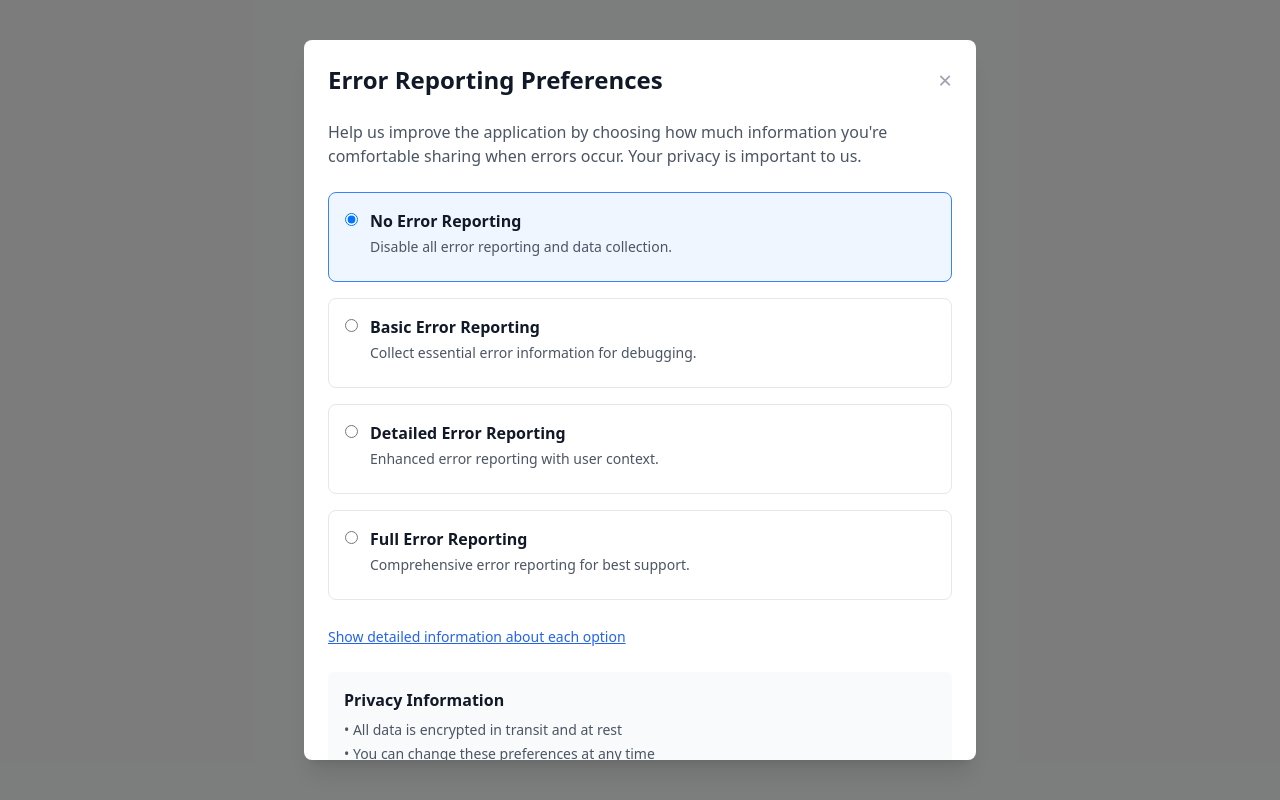
Test case: ErrorReportConsentModal › should show detailed information when "Show detailed information" is clicked
The width and height of the screenshot is (1280, 800).
Click the button "Show detailed information about each option" at coordinates (477, 637), box left=328, top=627, right=626, bottom=647
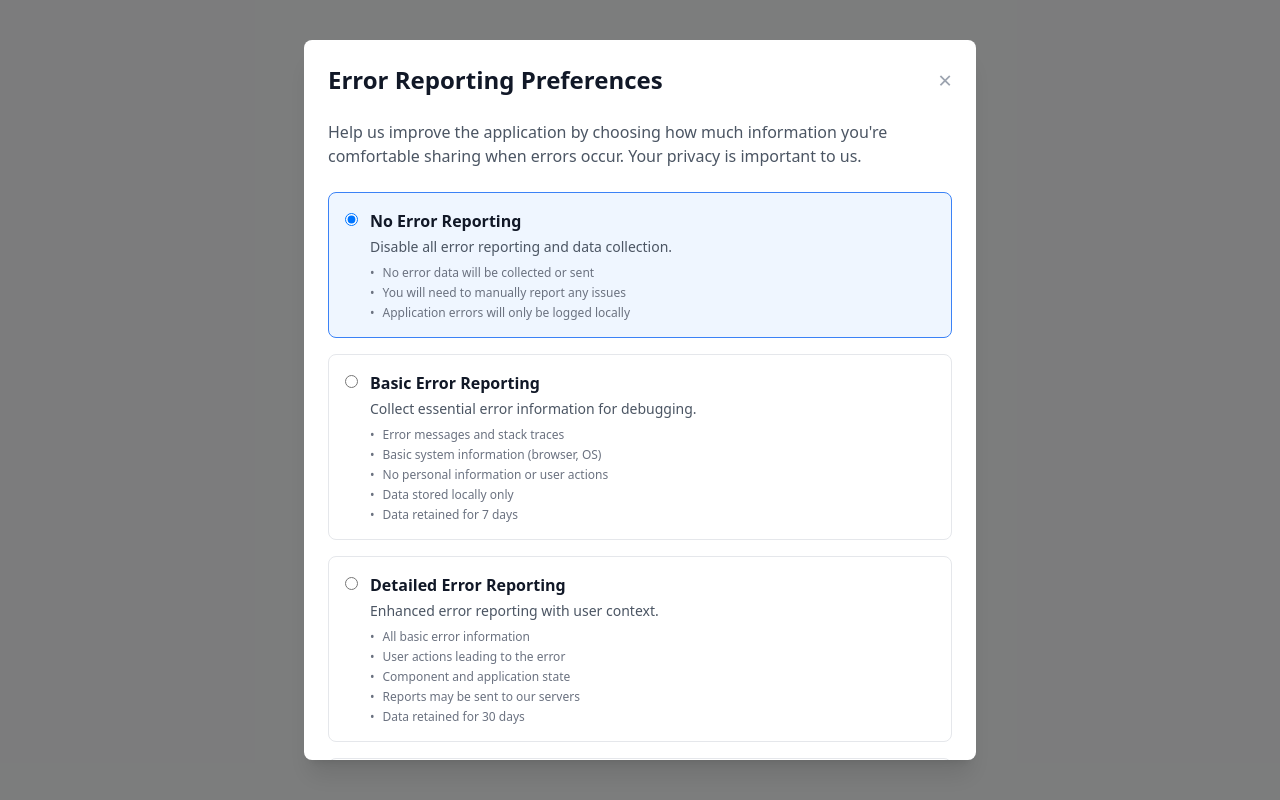
Expected: the text "No error data will be collected or sent" is shown, left=382, top=265, right=594, bottom=281
